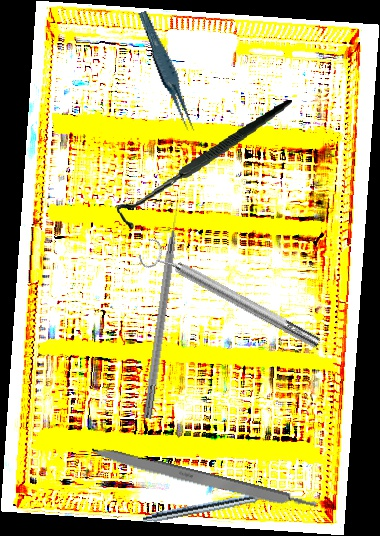Fixation Ring: (135, 234, 326, 359)
Handpiece: (142, 487, 280, 528)
Hook Surgical: (107, 99, 304, 231), (142, 196, 185, 420)
Scalpel Handle: (89, 444, 318, 516)
Tissue Forceps: (137, 7, 196, 137)
